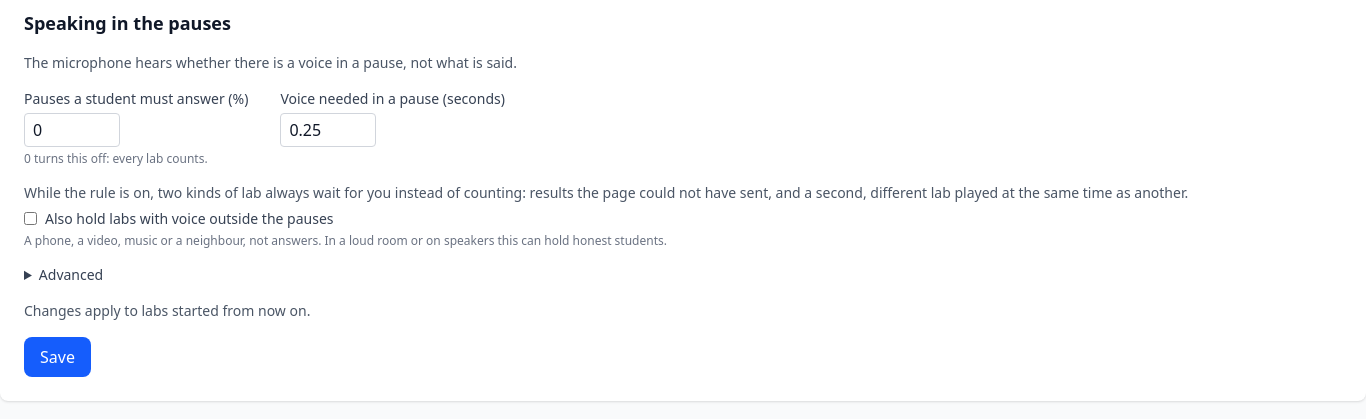
it: LabSettings › saves the share and the voice in milliseconds, then says so
Replace the text in the number field labelled "Pauses a student must answer (%)" with "75": [72, 130] box x1=24 y1=113 x2=120 y2=147
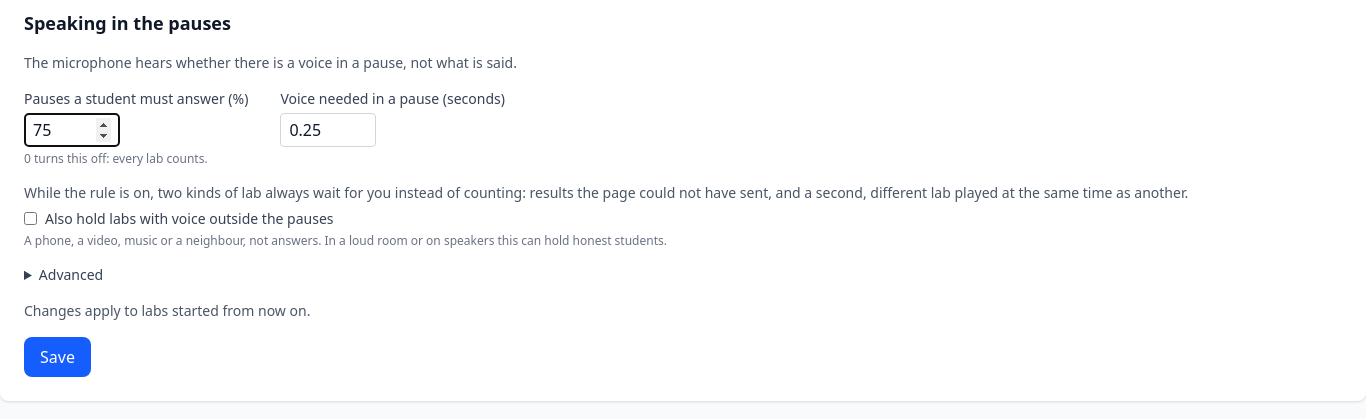
Replace the text in the number field labelled "Voice needed in a pause (seconds)" with "0.5": [328, 130] box x1=280 y1=113 x2=376 y2=147
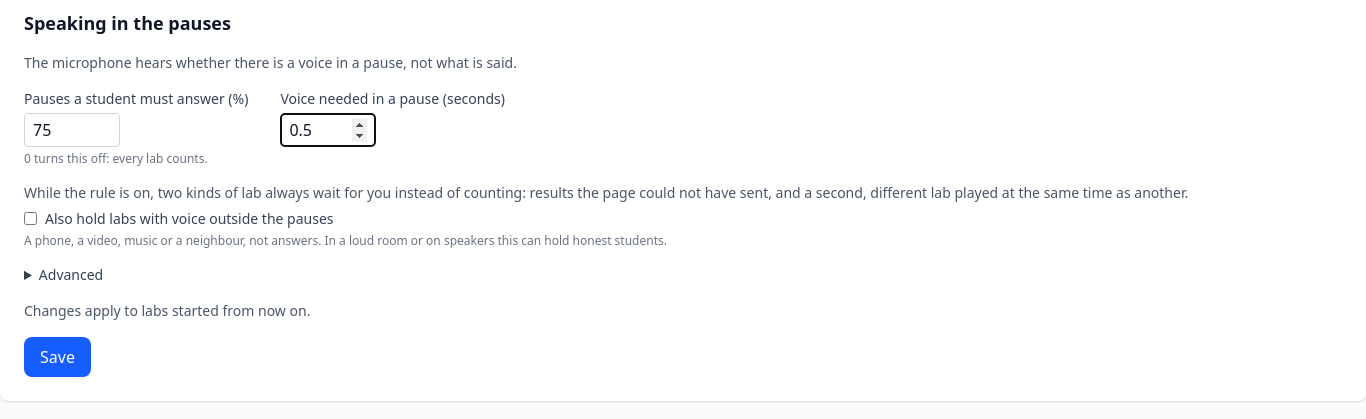
Click the button "Save": [57, 356] box x1=24 y1=336 x2=91 y2=376
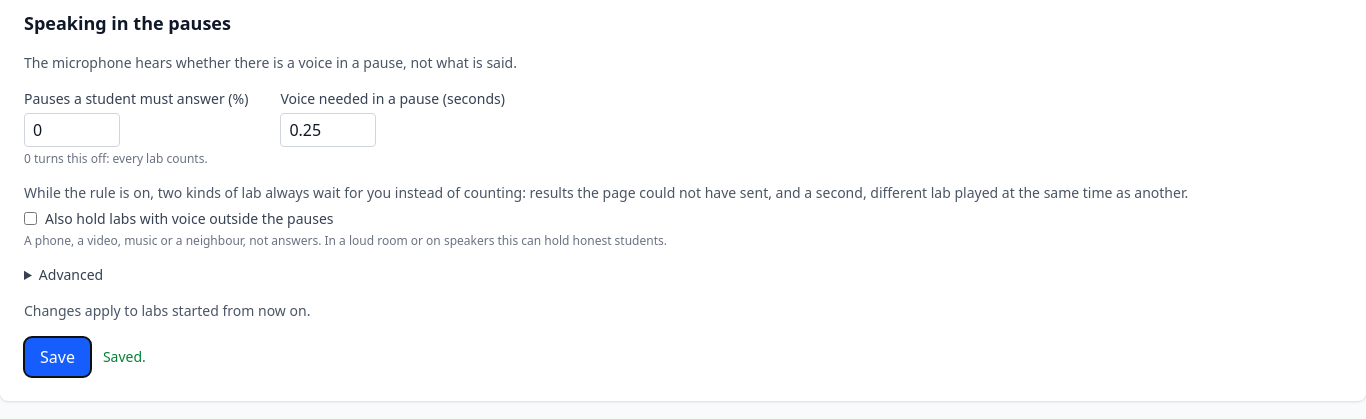
Expected: the message reads "Saved.", x1=103 y1=346 x2=146 y2=366
